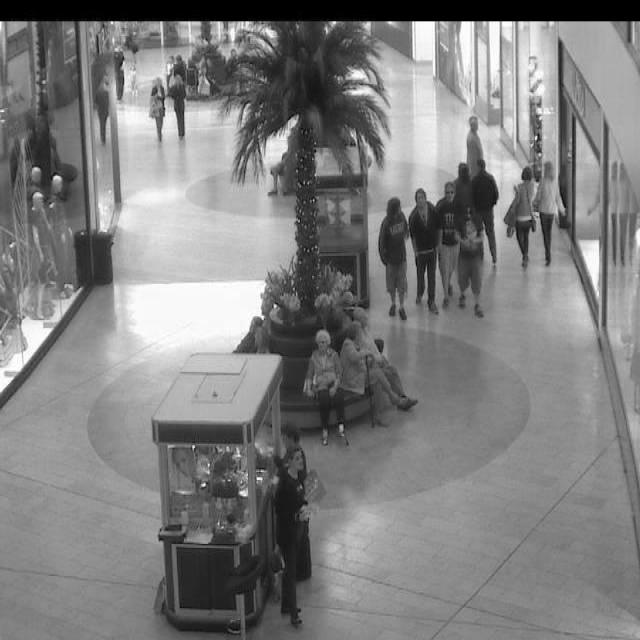person: (274, 444, 316, 627), (348, 309, 418, 416), (453, 182, 488, 315), (302, 330, 342, 446), (436, 182, 472, 310), (408, 190, 442, 311), (378, 198, 412, 317), (532, 164, 566, 263), (506, 169, 538, 268), (470, 161, 499, 264), (167, 72, 187, 140), (148, 76, 168, 143), (464, 118, 485, 178), (274, 417, 302, 459), (94, 68, 110, 140), (196, 55, 213, 98), (172, 51, 192, 76)
